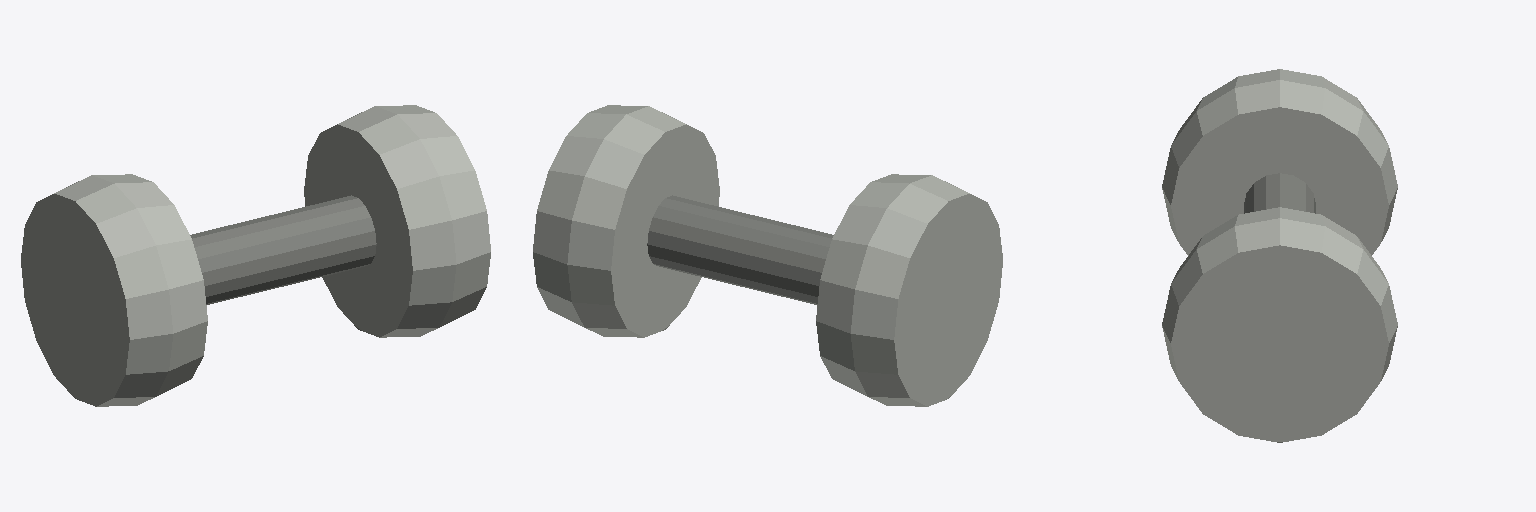
The picture shows the model from 3 angles: view 1: azimuth 30°, elevation 25°; view 2: azimuth 150°, elevation 25°; view 3: azimuth 270°, elevation 25°; orthographic projection.
Visible parts, largest first — view 1: sphere48_copy54; view 2: sphere48_copy54; view 3: sphere48_copy54.
Part boxes in pixels (x1,y1,x2,y2): sphere48_copy54: (21, 105, 490, 406); sphere48_copy54: (533, 105, 1002, 406); sphere48_copy54: (1162, 69, 1397, 442).
Size of the model in its own units: 0.6892 by 0.39 by 0.39.
Materials: 1 (1 with a texture image).